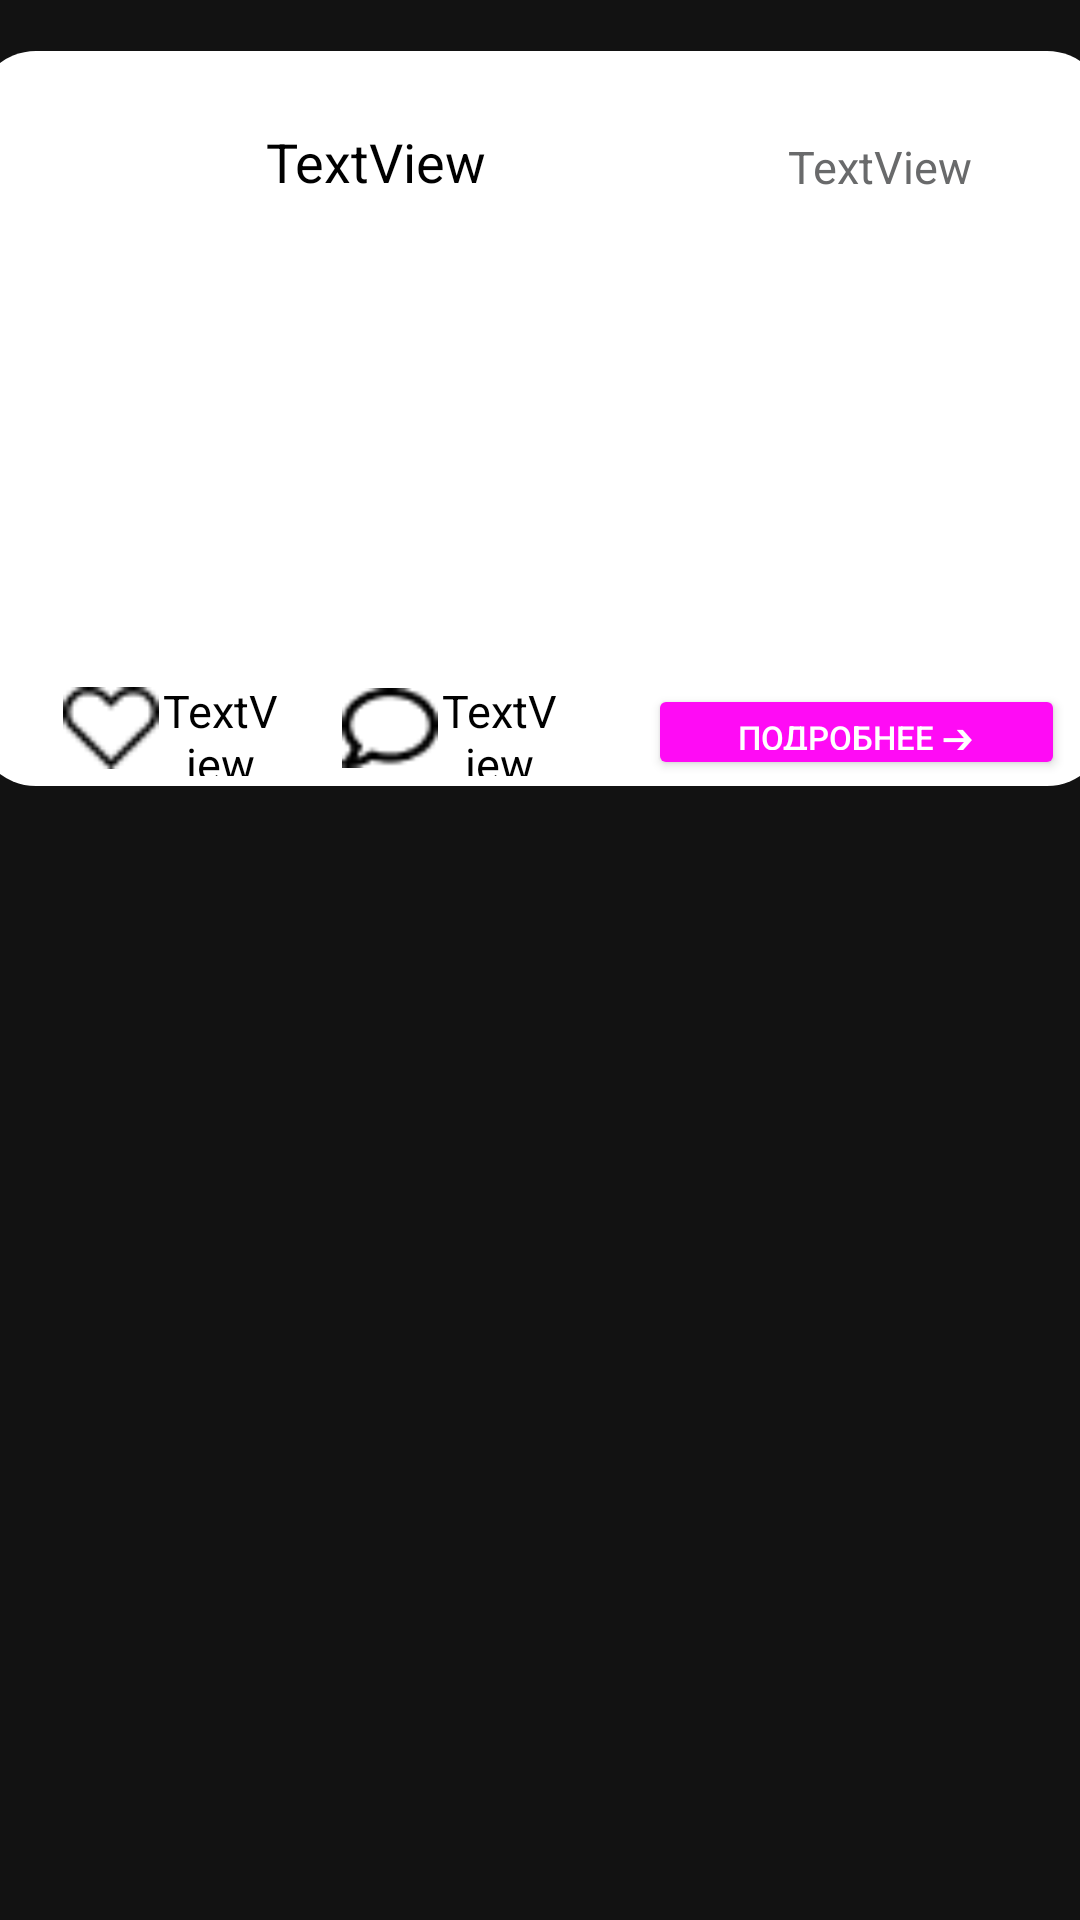

Point at icon controls on the screen. Image size 1080 x 1920, points as [x,y].
comment: [390,728]
like: [111,728]
